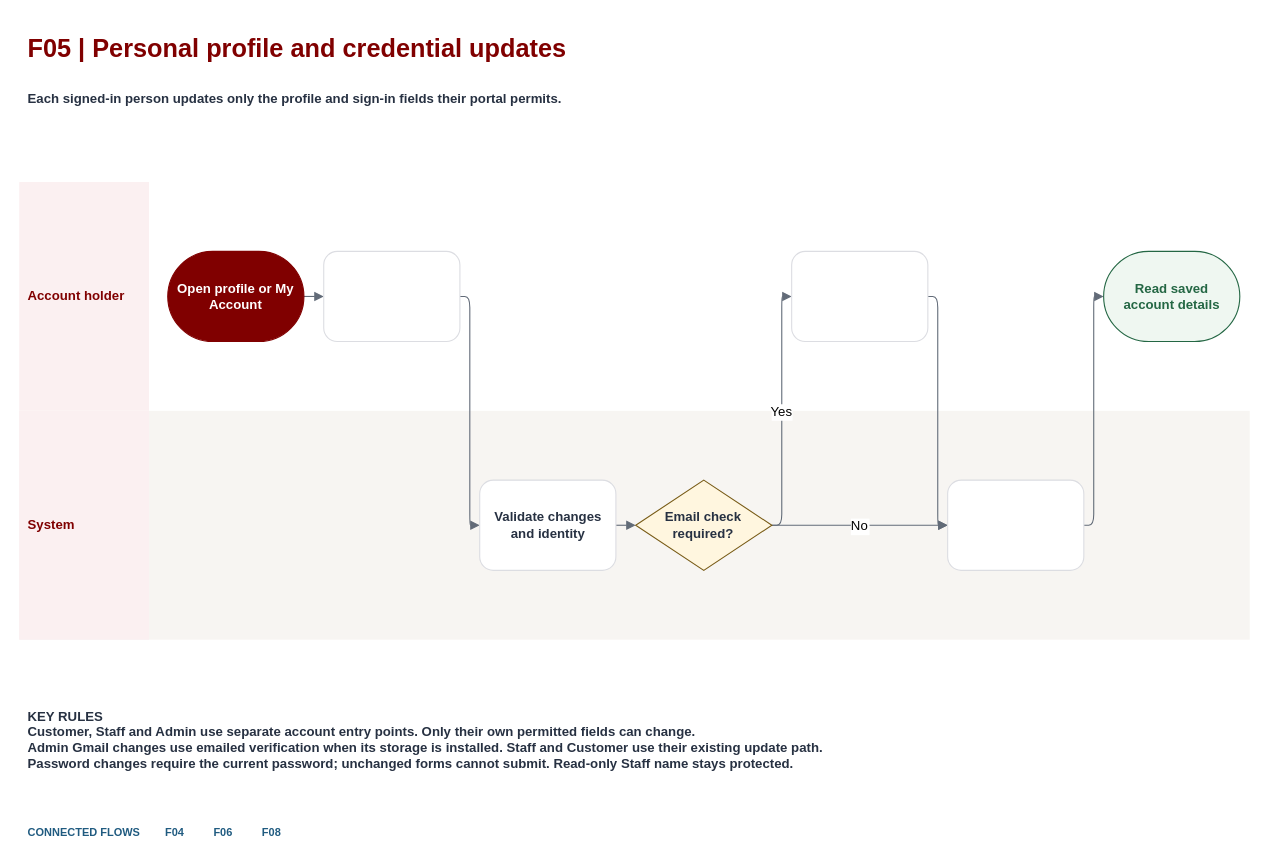
Image size: 1268x860. Some labels were removed from this diagram. Here are the shapes that lost their labels. From the top down, the centre of each, then its label:
At point (391, 296): "Edit permitted fields".
At point (859, 296): "Verify emailed change code".
At point (1015, 524): "Save authorized changes".
